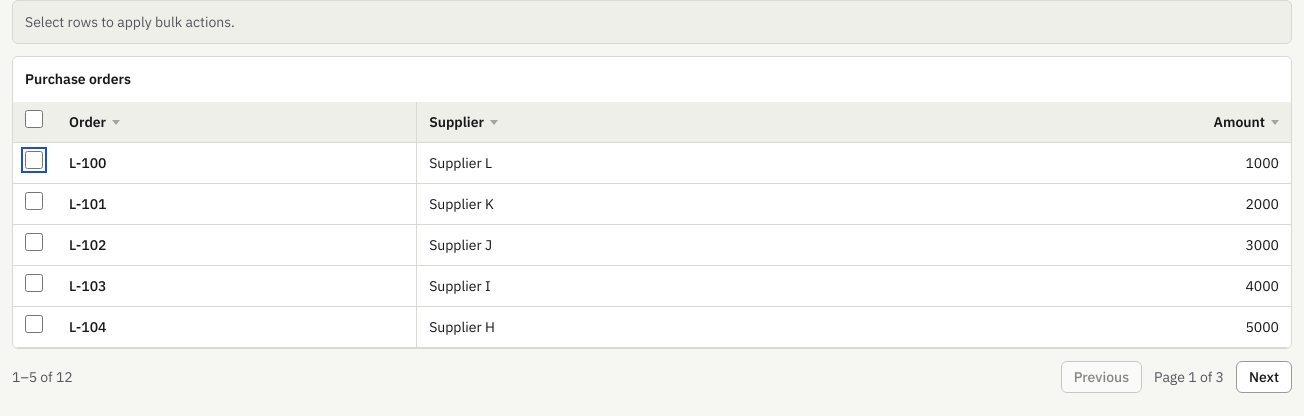
Test: BulkActionTable › selects rows and runs a bulk action using only the keyboard
The width and height of the screenshot is (1304, 416).
Type keys " "
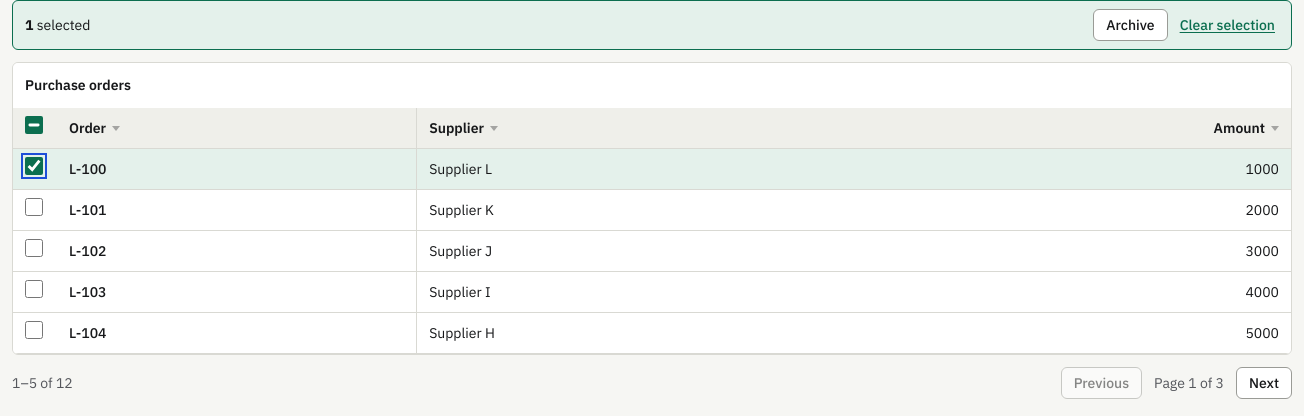
Press Tab
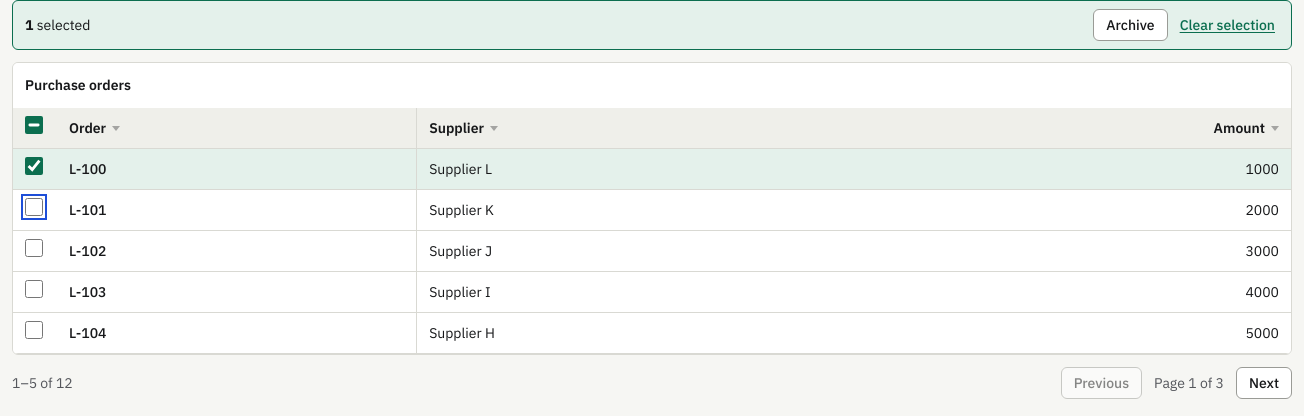
Type keys " "
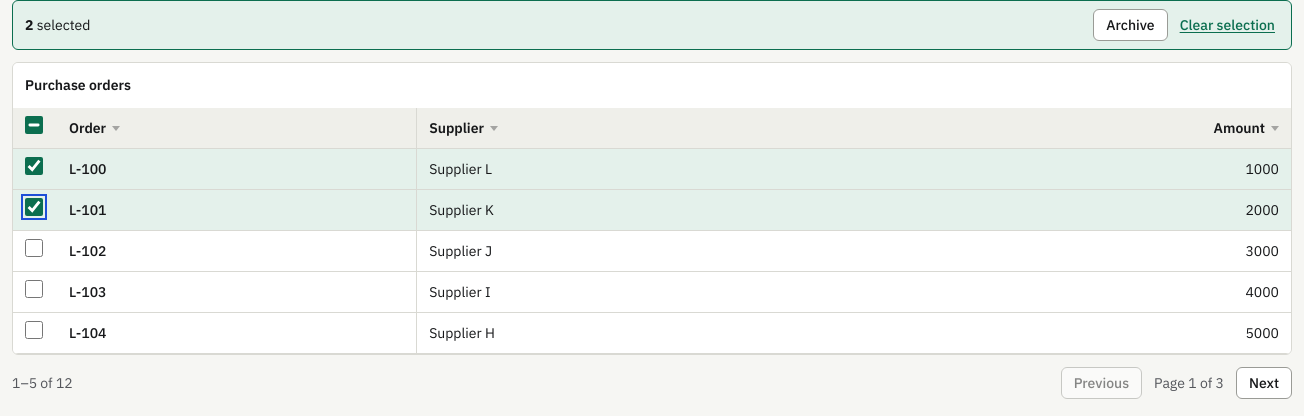
Click the button "Archive". click: (1130, 25)
box: [1093, 9, 1168, 41]
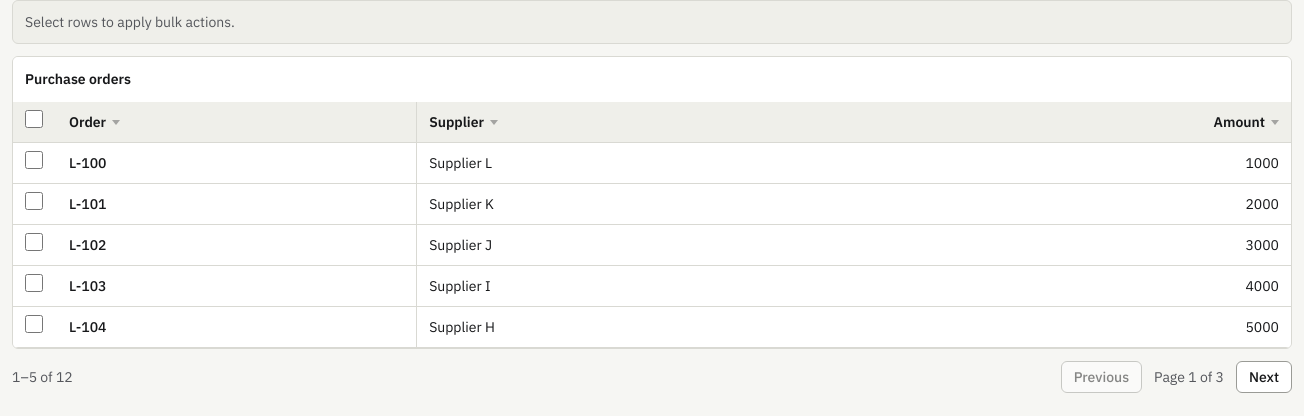
Expected: the text "Select rows to apply bulk actions." is shown, [25, 12, 235, 32]
